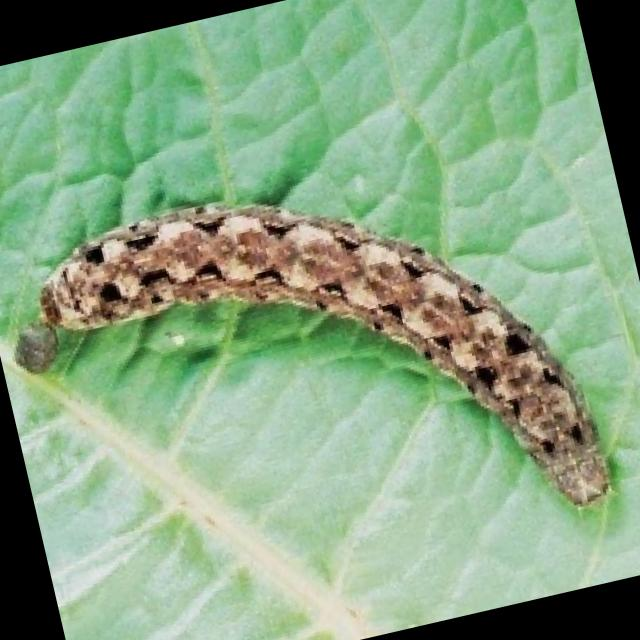armyworm: (1, 109, 640, 640)
